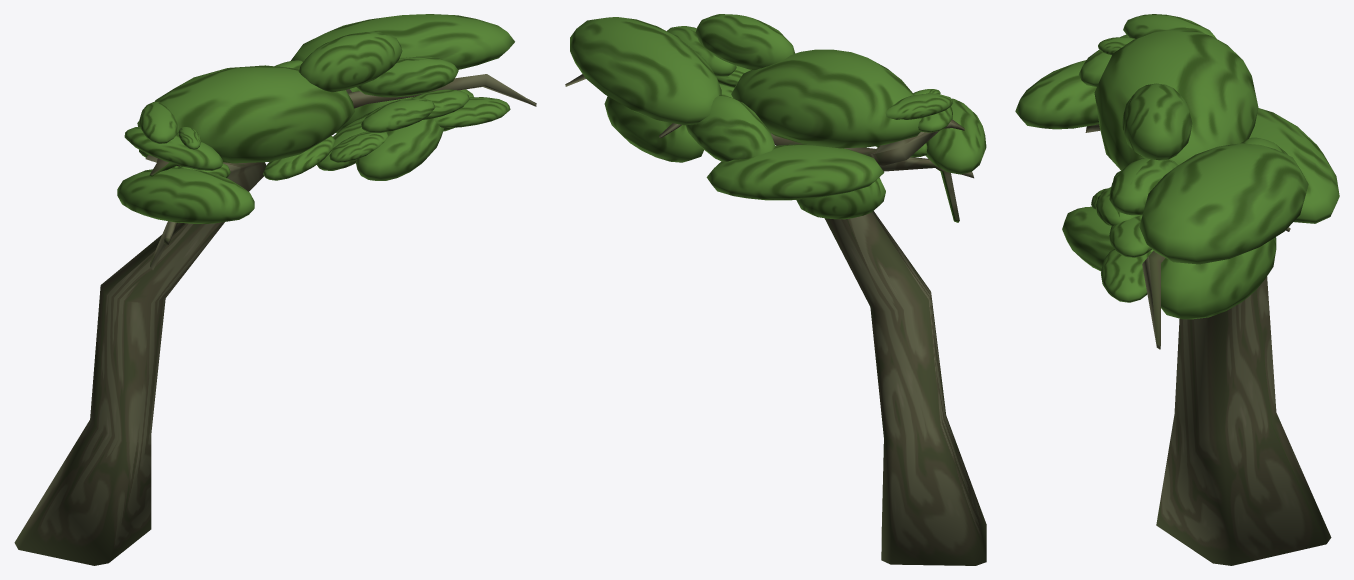
The model's file is Hondonada_RobleJaula.fbx.
The picture shows the model from 3 angles, left to right: view 1: azimuth 30°, elevation 25°; view 2: azimuth 150°, elevation 25°; view 3: azimuth 270°, elevation 25°; orthographic projection. The views are drawn at different scales.
Visible parts, largest first — view 1: Roble_V3.003; view 2: Roble_V3.003; view 3: Roble_V3.003.
Boxes of the visible parts, x1,y1,x2,y2 form: Roble_V3.003: (14, 14, 536, 565); Roble_V3.003: (565, 14, 986, 565); Roble_V3.003: (1015, 14, 1339, 565).
Size of the model in its own units: 933 by 872 by 440.
